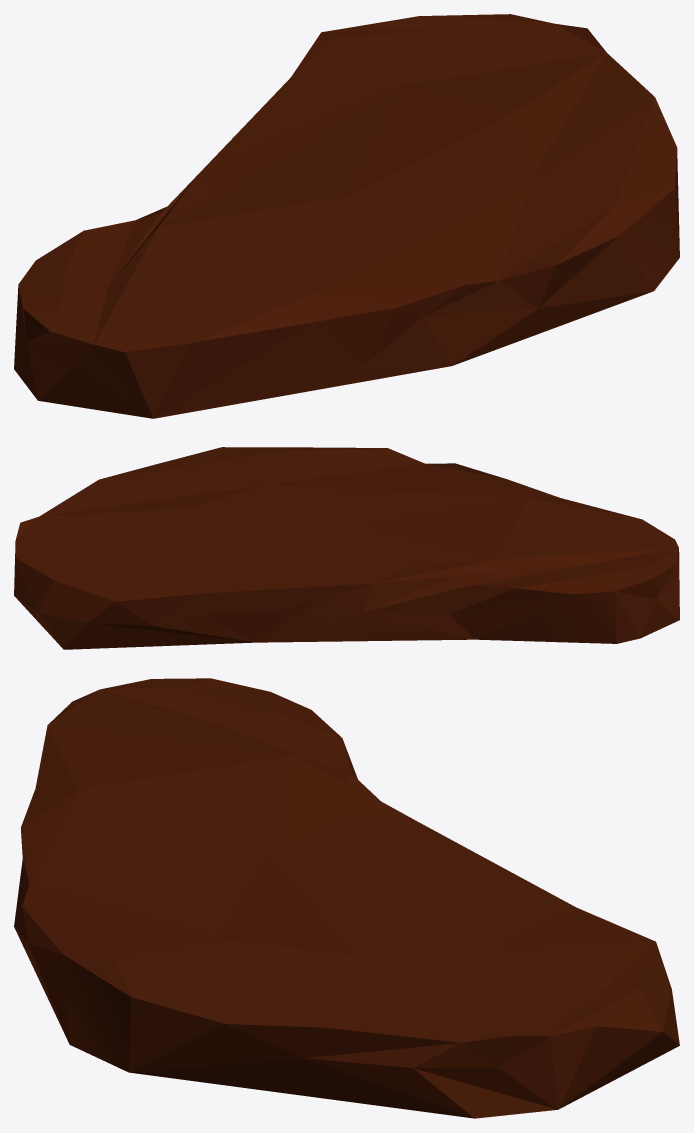
Rendered from ElevatedGround_8.fbx.
3 renders of one model, top to bottom at view 1: azimuth 30°, elevation 25°; view 2: azimuth 150°, elevation 25°; view 3: azimuth 270°, elevation 25°, orthographic. The views are drawn at different scales.
Visible parts, largest first — view 1: ElevatedGround_8; view 2: ElevatedGround_8; view 3: ElevatedGround_8.
Boxes of the visible parts, x1=… form: ElevatedGround_8: x1=14, y1=14, x2=679, y2=418; ElevatedGround_8: x1=14, y1=447, x2=679, y2=649; ElevatedGround_8: x1=14, y1=678, x2=679, y2=1118.
Size of the model in its own units: 2414 by 265 by 1832.
